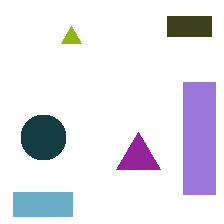circle: (21, 115, 65, 159)
rectangle: (183, 82, 215, 194), (13, 192, 72, 216), (167, 16, 211, 36)
triangle: (116, 132, 160, 169), (61, 26, 81, 43)
